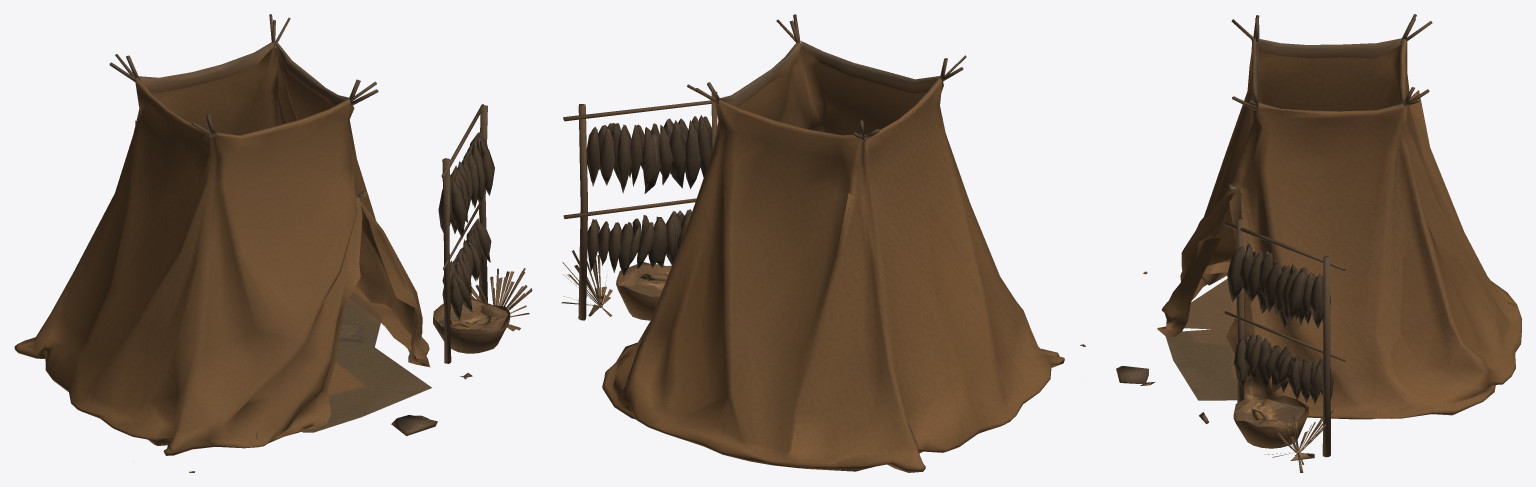
Rendered from avci_cadiri.glb.
3 renders of one model, left to right at view 1: azimuth 30°, elevation 25°; view 2: azimuth 150°, elevation 25°; view 3: azimuth 270°, elevation 25°, orthographic. The views are drawn at different scales.
Bounding box in the file's own units: 0.8813 × 0.5718 × 0.7085.
Materials: 1 (1 with a texture image).
